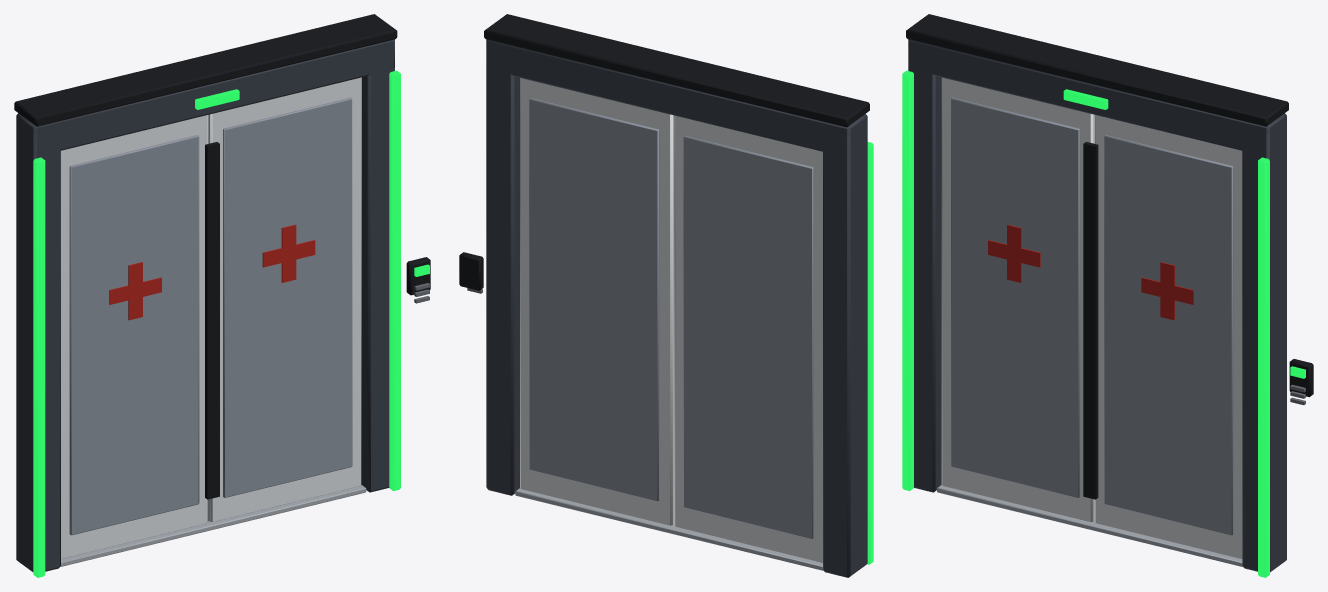
Rendered from door_medical.glb.
3 views of the same model, side by side, from view 1: azimuth 30°, elevation 25°; view 2: azimuth 150°, elevation 25°; view 3: azimuth 330°, elevation 25° (orthographic).
Parts seen in each view (by area): view 1: leaf_l, body, leaf_r; view 2: leaf_r, body, leaf_l; view 3: leaf_r, body, leaf_l.
Part boxes in pixels (box(x1,y1,x2,y2)): leaf_l: box(61, 115, 213, 558); body: box(14, 14, 430, 577); leaf_r: box(208, 77, 361, 521); leaf_r: box(520, 78, 674, 525); body: box(459, 14, 873, 577); leaf_l: box(674, 115, 822, 562); leaf_r: box(1089, 115, 1242, 558); body: box(902, 14, 1313, 577); leaf_l: box(941, 77, 1094, 521).
Size of the model in its own units: 2.62 by 2.86 by 0.285.
